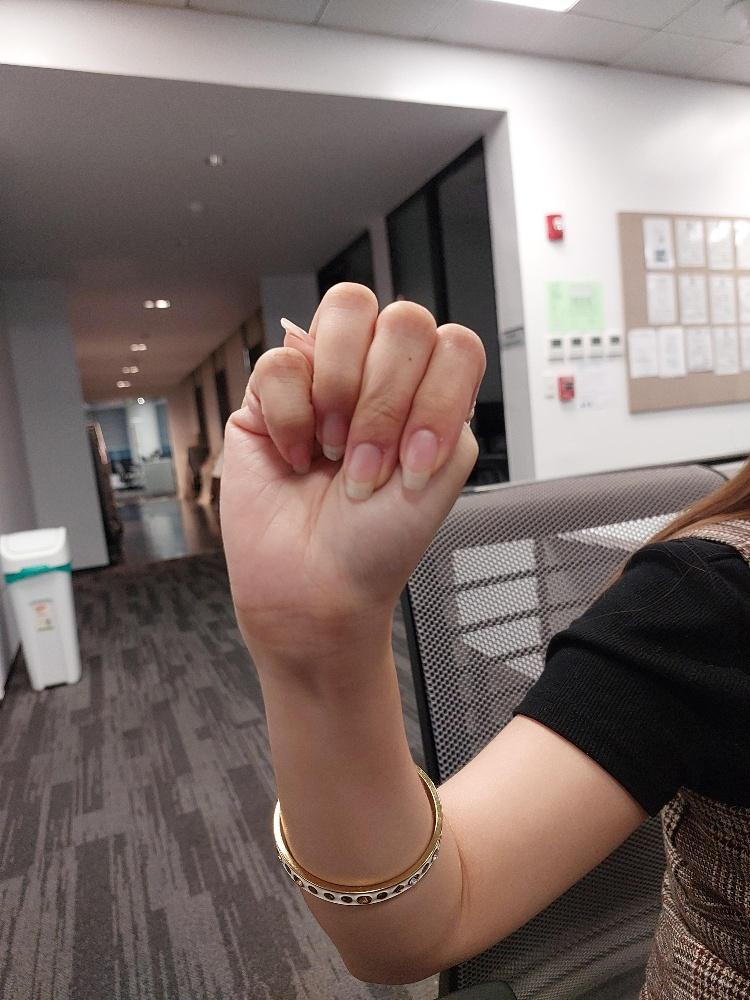m: (216, 276, 491, 641)
